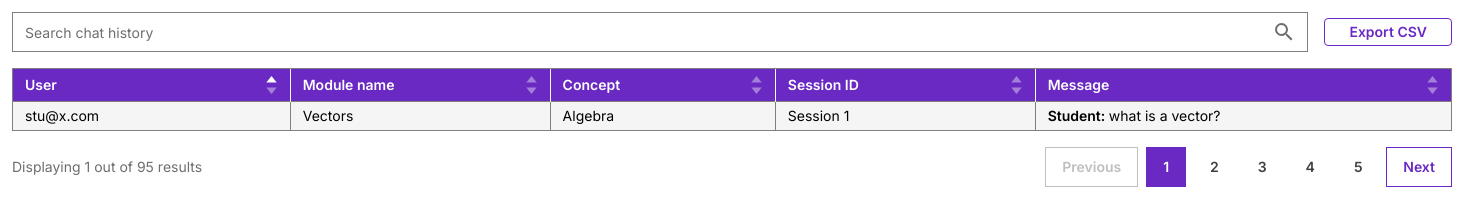
Test: ChatHistoryTab › keeps the search bar and shows a no-match message (not the empty state) when a search returns nothing
This screenshot has width=1464, height=215.
Type "zzz" into the search field labelled "Search chat history" at x=660, y=32, box x1=12 y1=12 x2=1308 y2=52
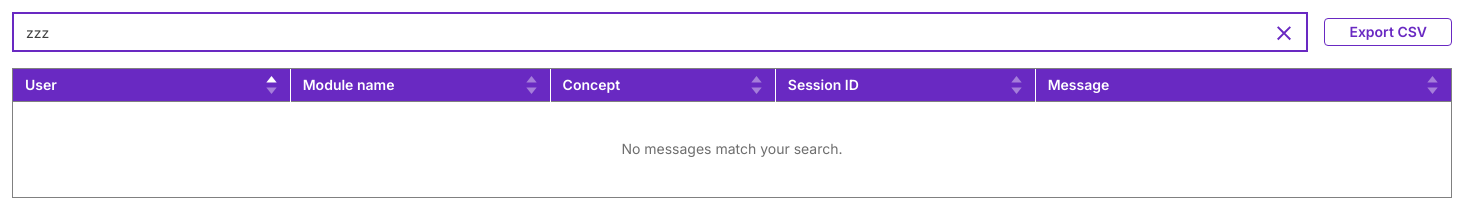
Expected: the text "No messages match your search." is shown, x1=13 y1=101 x2=1451 y2=197
